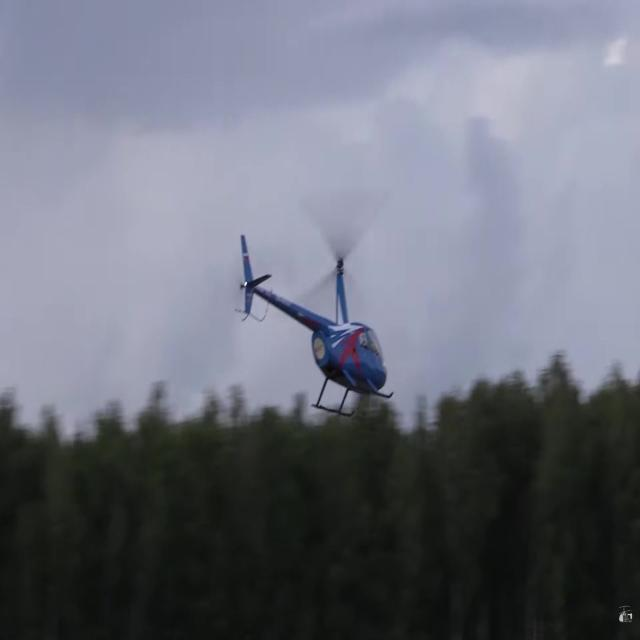CIV_HELO: (237, 232, 394, 419)
